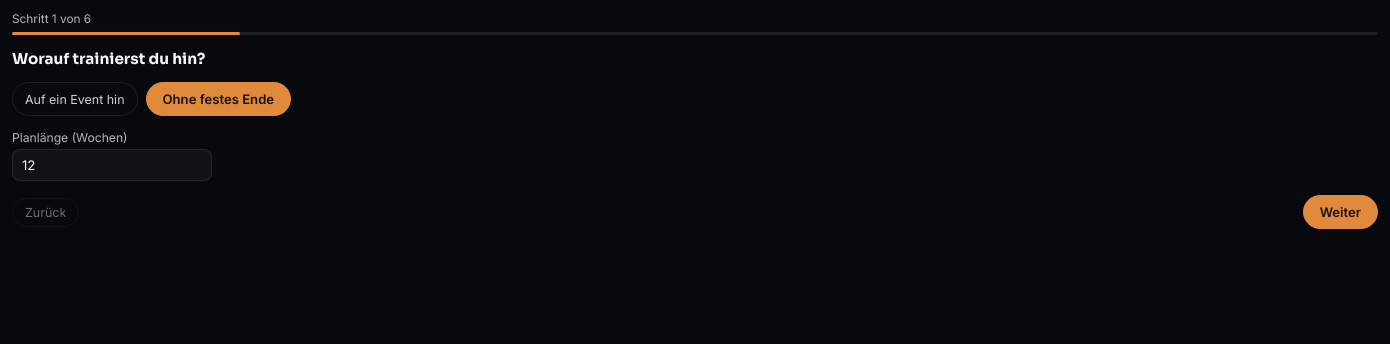
Test: GuidedPlanQuestions › Event-Ziel ohne Event: verlangt Renntag und Name
Click the button "Auf ein Event hin" at x=75, y=99, box x1=12 y1=82 x2=138 y2=116
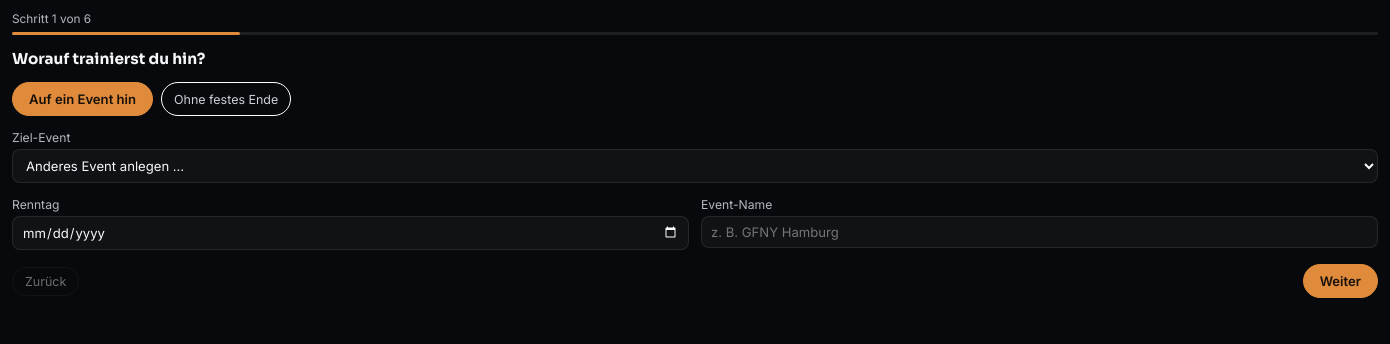
Click the button "Weiter" at x=1340, y=281, box x1=1303 y1=264 x2=1378 y2=298
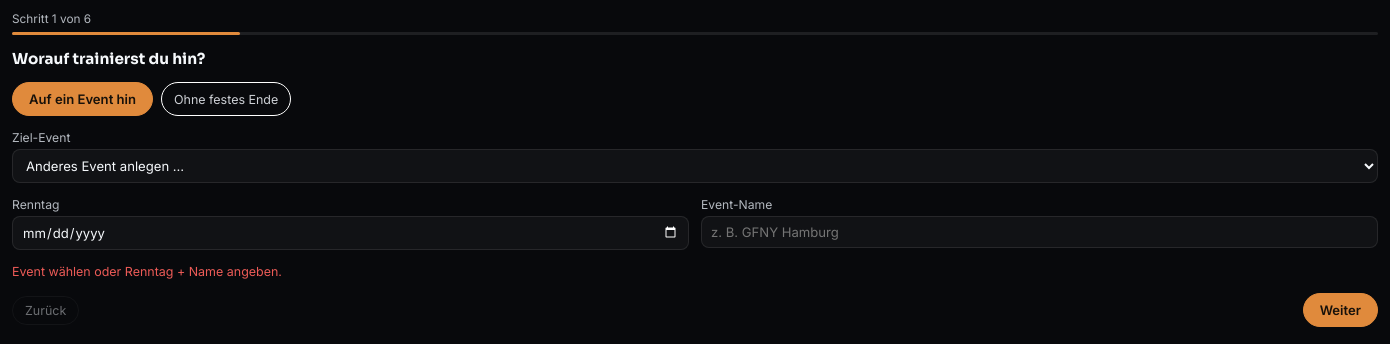
Expected: the message shows "Event", x1=12 y1=264 x2=282 y2=279
